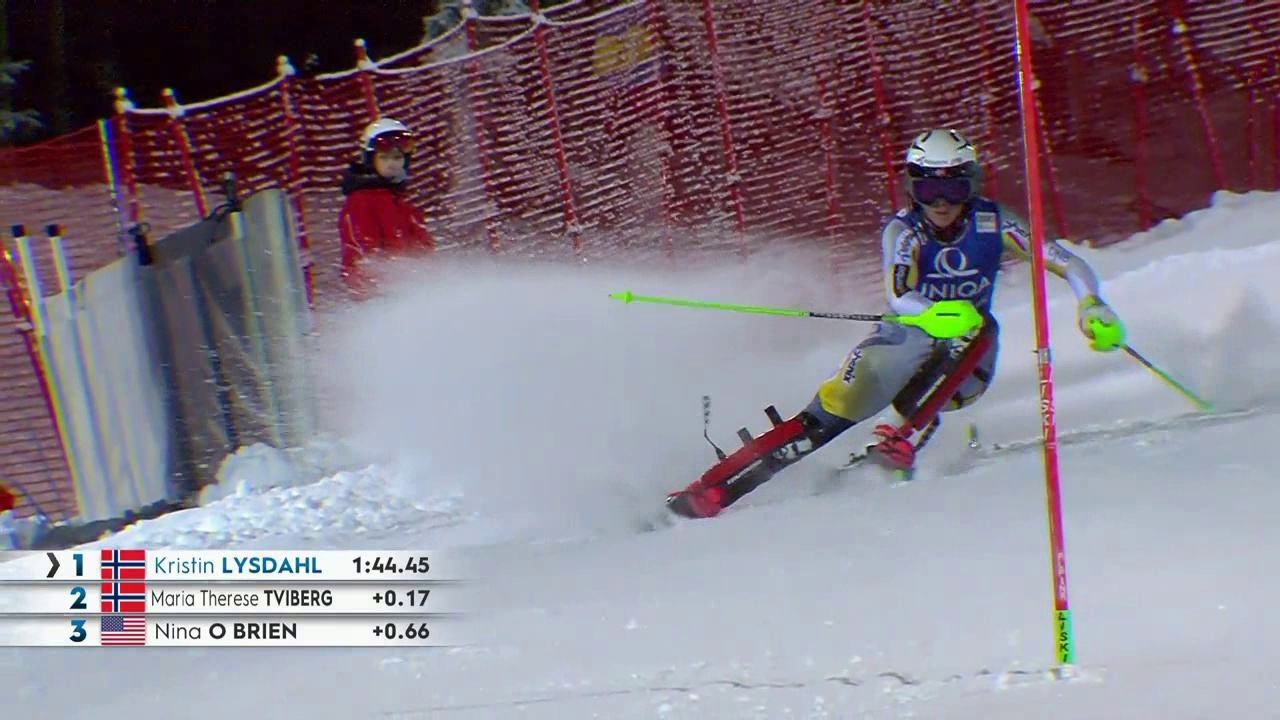uniqa: (914, 245, 994, 305)
